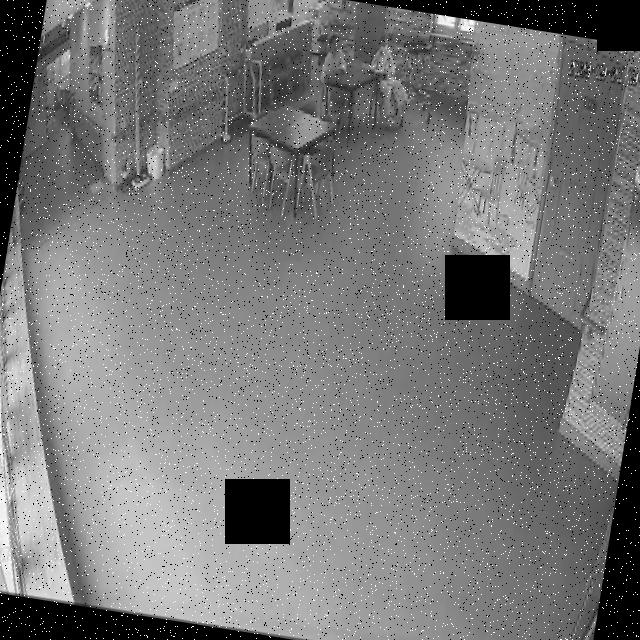patient: (362, 38, 418, 130), (318, 33, 352, 87)
sit: (362, 39, 416, 130)
